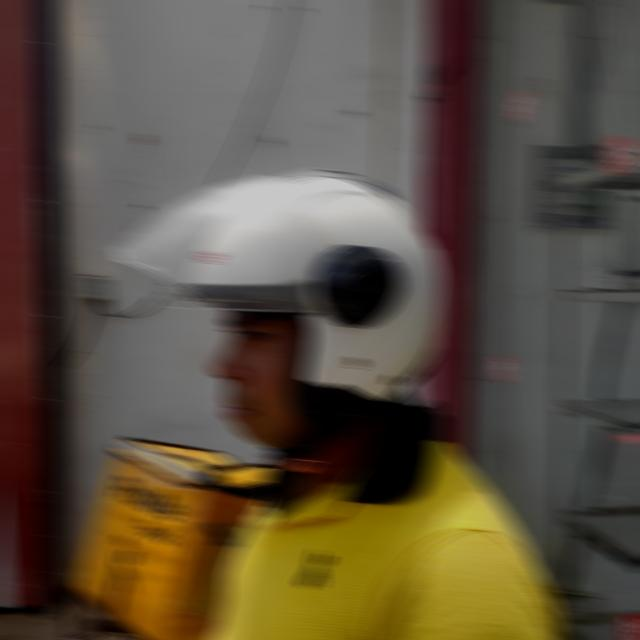With Helmet: (111, 166, 448, 435)
